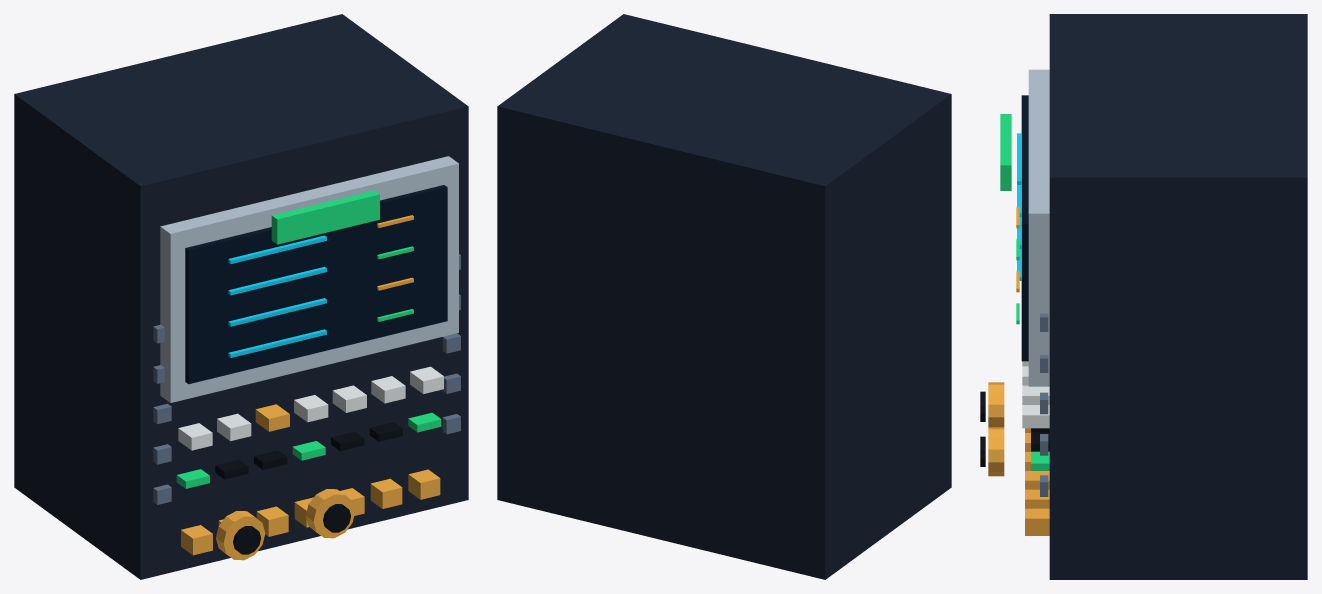
File: 92_L90_W157CriticalNeutralizerPatchStation.fbx
The picture shows the model from 3 angles, left to right: view 1: azimuth 30°, elevation 25°; view 2: azimuth 150°, elevation 25°; view 3: azimuth 270°, elevation 25°; orthographic projection. The views are drawn at different scales.
Parts seen in each view (by area): view 1: L90_W157CriticalNeutralizerPatchStation, L90_W157CriticalNeutralizerPatchStation_Part_0009, L90_W157CriticalNeutralizerPatchStation_Part_0012, L90_W157CriticalNeutralizerPatchStation_Part_0010, L90_W157CriticalNeutralizerPatchStation_Part_0011, L90_W157CriticalNeutralizerPatchStation_Part_0013; view 2: L90_W157CriticalNeutralizerPatchStation; view 3: L90_W157CriticalNeutralizerPatchStation, L90_W157CriticalNeutralizerPatchStation_Part_0009, L90_W157CriticalNeutralizerPatchStation_Part_0012, L90_W157CriticalNeutralizerPatchStation_Part_0010.
Part boxes in pixels (left/top/right/bottom): L90_W157CriticalNeutralizerPatchStation: left=14, top=14, right=468, bottom=579; L90_W157CriticalNeutralizerPatchStation_Part_0009: left=271, top=190, right=379, bottom=244; L90_W157CriticalNeutralizerPatchStation_Part_0012: left=306, top=489, right=355, bottom=538; L90_W157CriticalNeutralizerPatchStation_Part_0010: left=216, top=511, right=265, bottom=560; L90_W157CriticalNeutralizerPatchStation_Part_0011: left=233, top=526, right=260, bottom=554; L90_W157CriticalNeutralizerPatchStation_Part_0013: left=323, top=504, right=350, bottom=532; L90_W157CriticalNeutralizerPatchStation: left=497, top=14, right=951, bottom=579; L90_W157CriticalNeutralizerPatchStation: left=1016, top=14, right=1307, bottom=579; L90_W157CriticalNeutralizerPatchStation_Part_0009: left=1000, top=114, right=1011, bottom=190; L90_W157CriticalNeutralizerPatchStation_Part_0012: left=988, top=427, right=1004, bottom=476; L90_W157CriticalNeutralizerPatchStation_Part_0010: left=988, top=382, right=1004, bottom=427.
Bounding box in the file's own units: 102 × 117 × 86.2.
